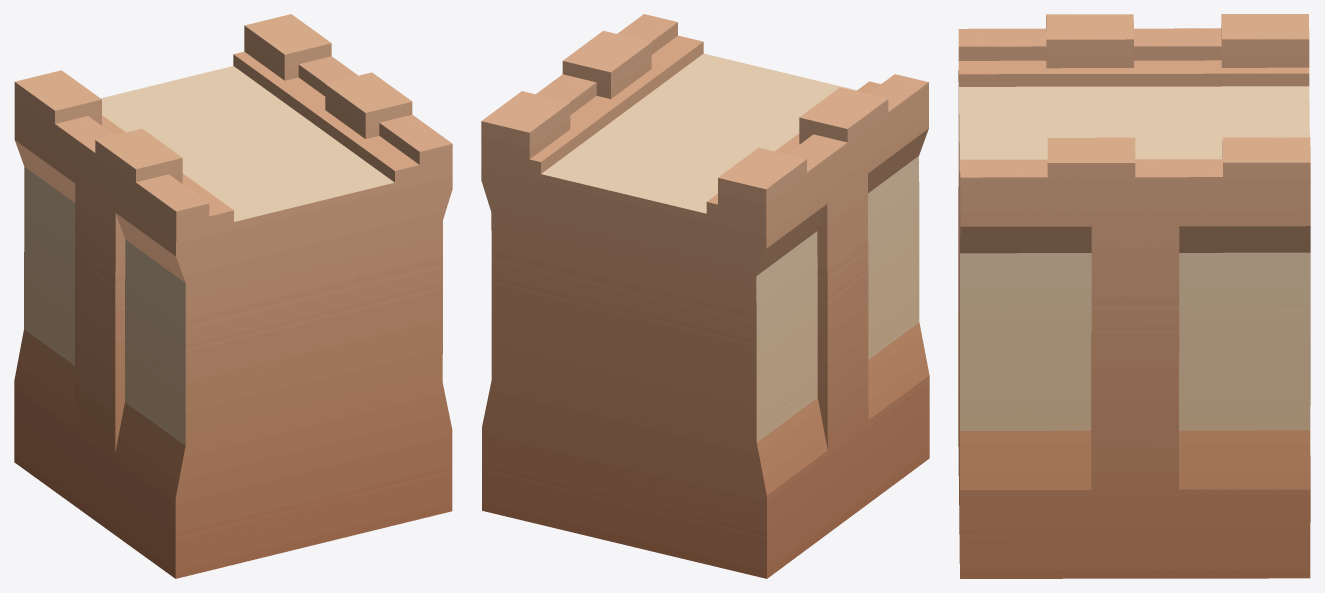
The model's file is wall-pillar.020_lev3.glb.
3 renders of one model, left to right at view 1: azimuth 30°, elevation 25°; view 2: azimuth 150°, elevation 25°; view 3: azimuth 270°, elevation 25°, orthographic. The views are drawn at different scales.
Parts seen in each view (by area): view 1: wall-pillar.020_lev3; view 2: wall-pillar.020_lev3; view 3: wall-pillar.020_lev3.
Boxes of the visible parts, x1,y1,x2,y2 form: wall-pillar.020_lev3: [14, 14, 452, 578]; wall-pillar.020_lev3: [481, 14, 929, 578]; wall-pillar.020_lev3: [958, 14, 1310, 578].
Size of the model in its own units: 5.98 by 7.8 by 5.97.
Materials: 1 (1 with a texture image).
